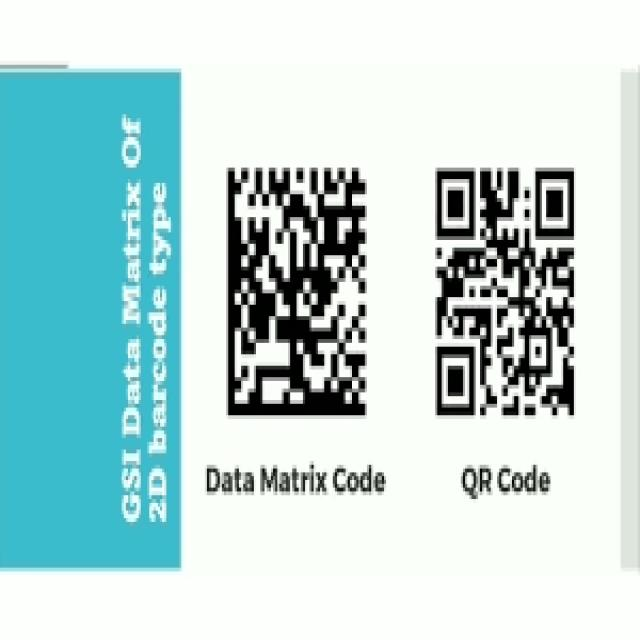datamatrix: (222, 152, 377, 438)
